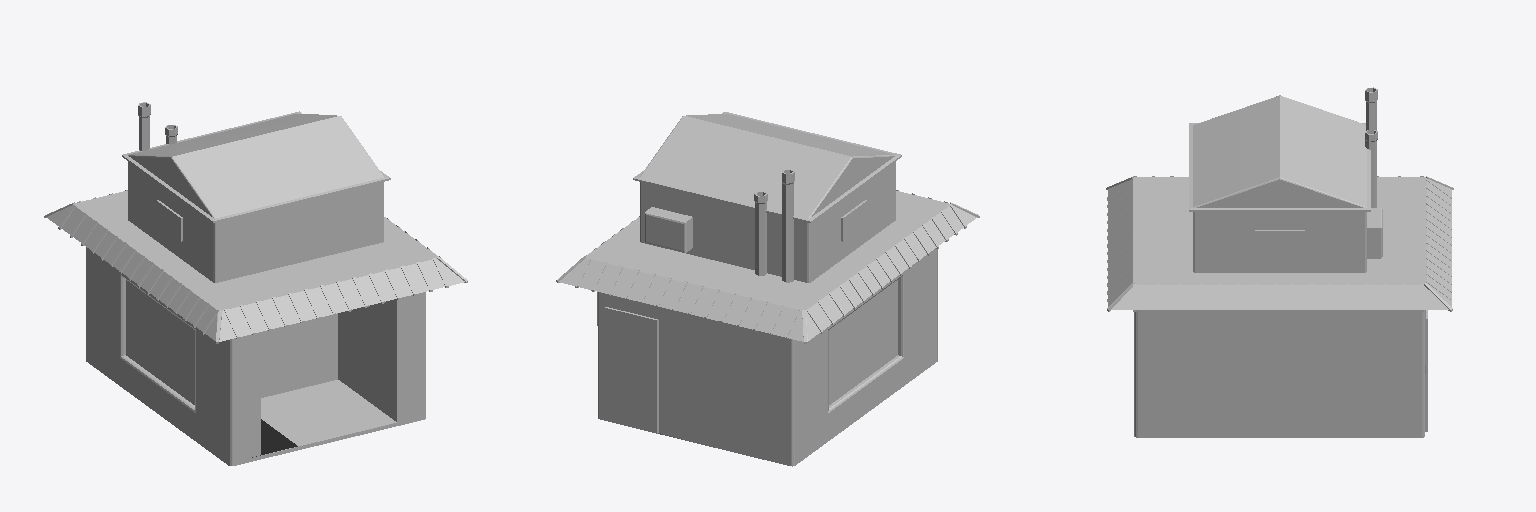
3 views of the same model, side by side, from view 1: azimuth 30°, elevation 25°; view 2: azimuth 150°, elevation 25°; view 3: azimuth 270°, elevation 25° (orthographic).
Visible parts, largest first — view 1: Shop_Low_5, singles_polySurface28_polySurface23_pPlane12; view 2: Shop_Low_5; view 3: Shop_Low_5.
Part boxes in pixels (bbox=[...]): Shop_Low_5: bbox=[44, 102, 467, 465]; singles_polySurface28_polySurface23_pPlane12: bbox=[252, 419, 297, 457]; Shop_Low_5: bbox=[556, 112, 979, 466]; Shop_Low_5: bbox=[1106, 87, 1453, 437].
Bounding box in the file's own units: 13.84 × 14 × 16.52.